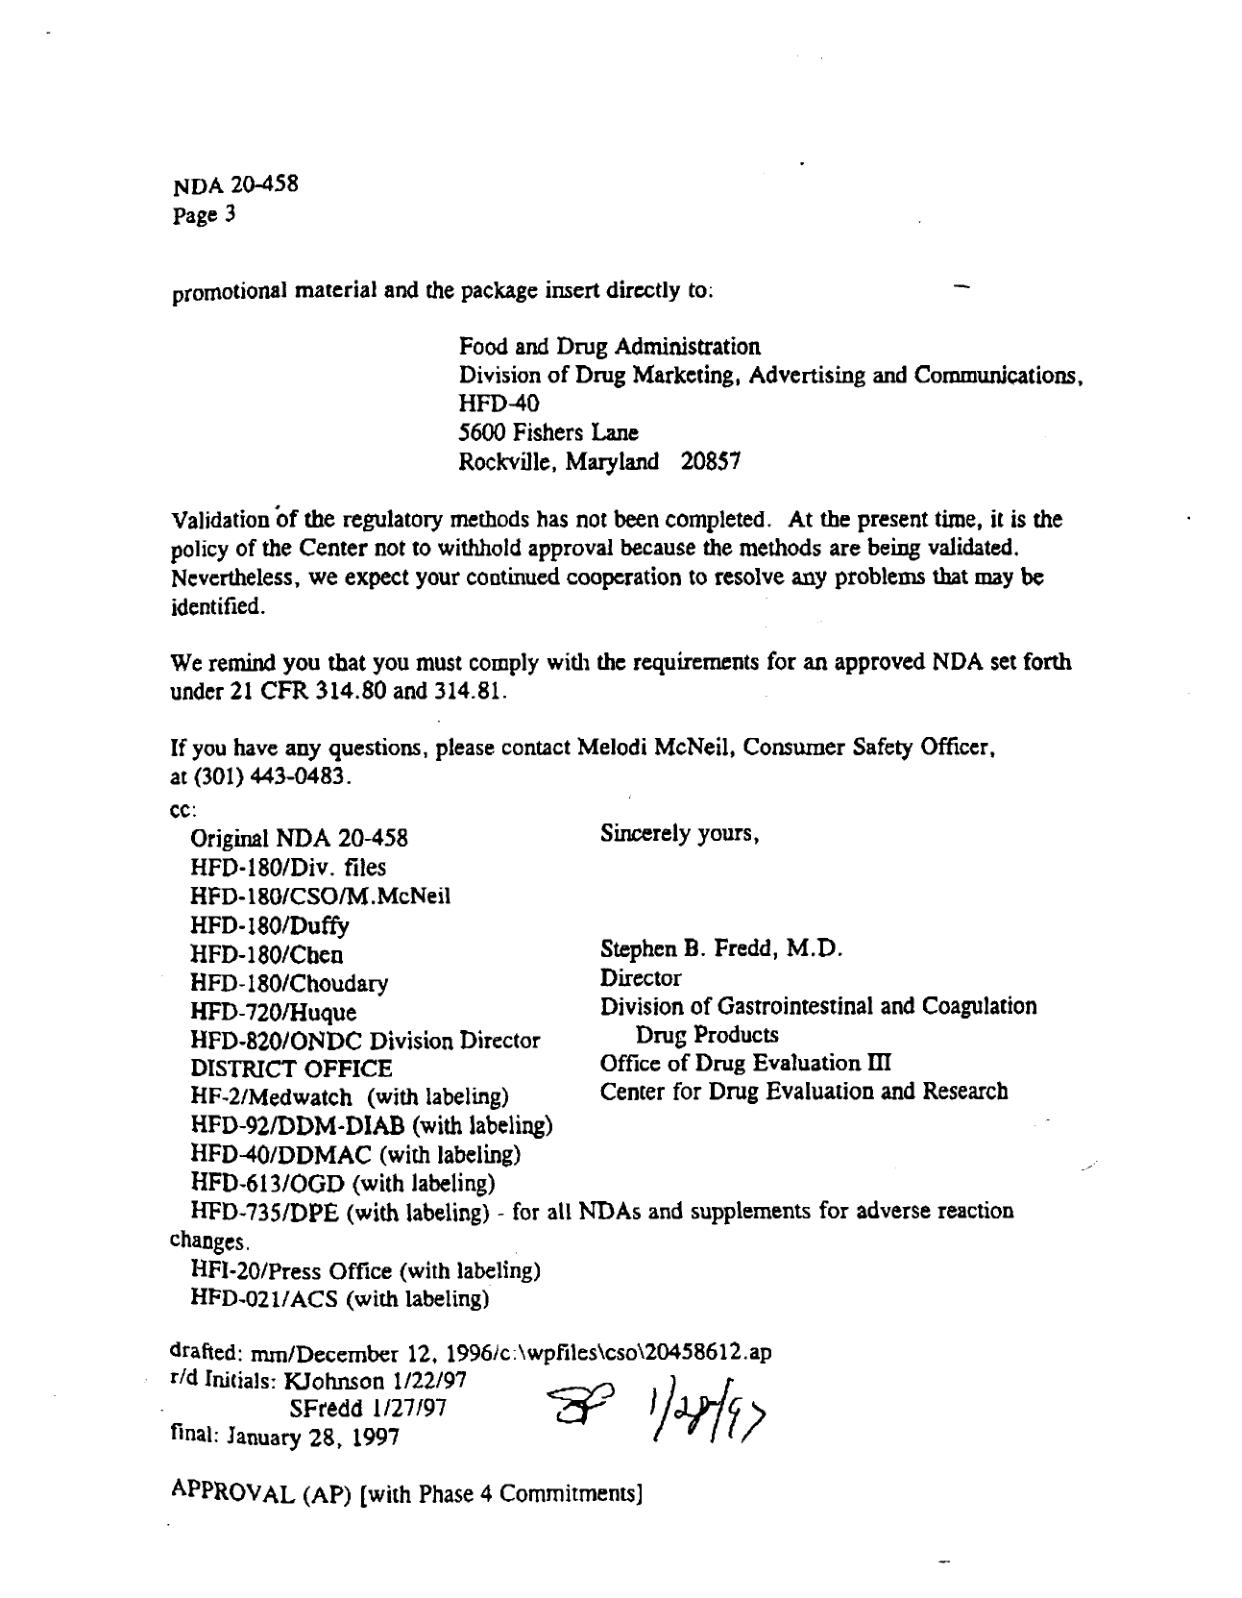nolines: (185, 825, 1036, 1314)
